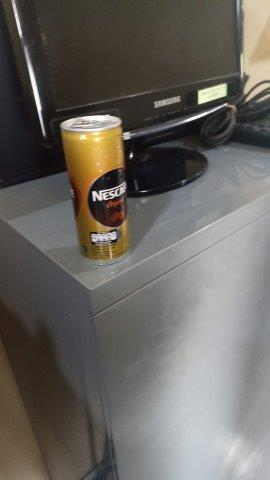kaleng: (60, 117, 133, 264)
